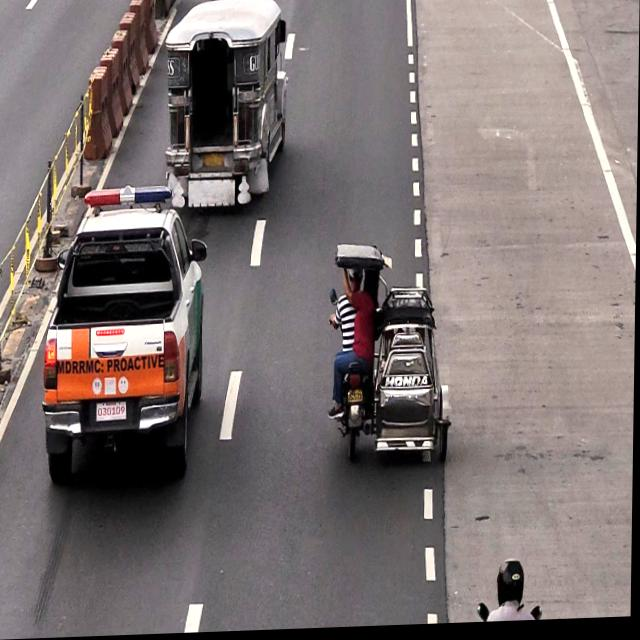Car: (49, 186, 202, 476)
Jeep: (166, 0, 286, 208)
License-Plate: (95, 401, 131, 426)
Tricycle: (328, 247, 451, 477)
